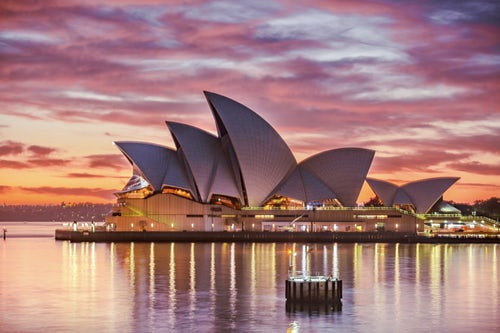opera house: (43, 79, 484, 257)
